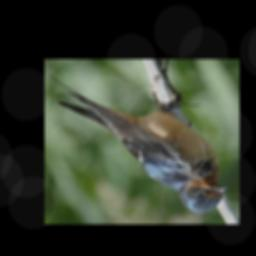Swallow: (47, 73, 229, 214)
